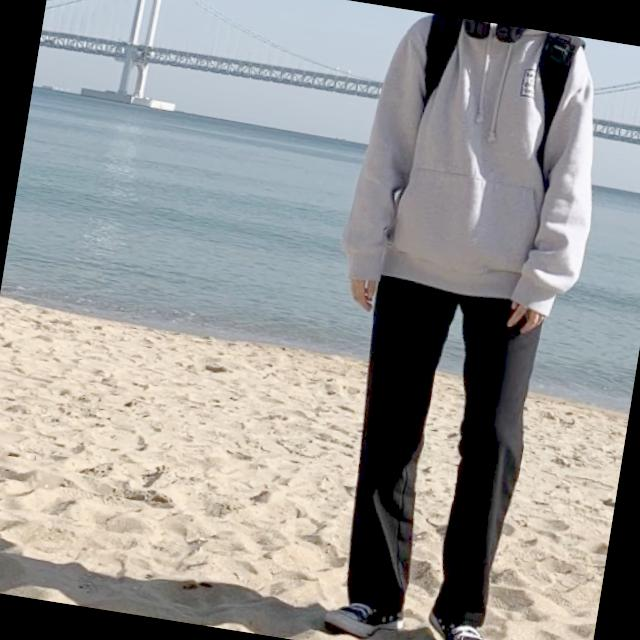hoodies: (334, 5, 616, 318)
slacks: (324, 271, 549, 638)
